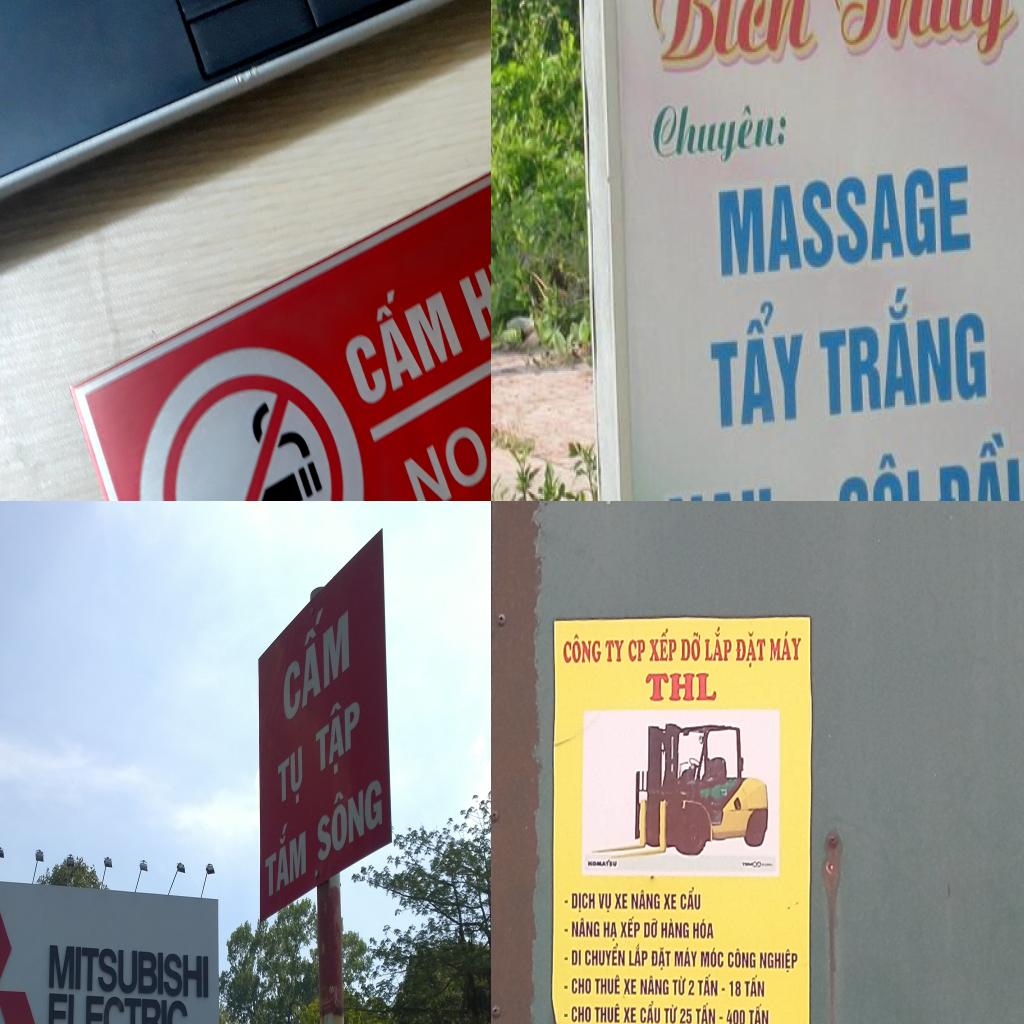text: (714, 160, 977, 280), (813, 279, 991, 420), (332, 270, 463, 408), (706, 292, 809, 432), (828, 0, 1024, 72), (651, 0, 824, 65), (653, 94, 791, 172), (282, 578, 352, 728), (47, 942, 210, 1001), (402, 419, 491, 501), (826, 449, 931, 501), (313, 680, 362, 789), (47, 991, 188, 1024), (452, 227, 491, 342), (264, 807, 308, 902), (644, 670, 720, 706), (277, 741, 305, 816), (562, 631, 602, 668), (734, 627, 768, 670), (768, 628, 803, 664), (759, 945, 800, 974), (703, 624, 732, 664), (648, 627, 678, 664), (584, 942, 626, 968), (678, 629, 702, 662), (630, 888, 661, 912), (639, 974, 670, 997), (727, 947, 757, 970), (660, 918, 690, 940), (604, 635, 626, 664), (571, 917, 600, 939), (594, 973, 621, 996), (700, 945, 724, 970), (571, 890, 597, 913), (650, 945, 672, 972), (680, 886, 702, 912), (698, 972, 720, 998), (594, 1002, 620, 1024), (692, 917, 716, 940), (619, 915, 641, 939), (674, 946, 698, 968), (639, 1000, 661, 1024), (628, 943, 648, 969), (744, 975, 766, 998), (748, 1002, 770, 1024), (695, 1001, 716, 1024), (627, 637, 646, 662), (570, 975, 593, 995), (571, 1003, 592, 1024), (602, 919, 619, 942), (643, 916, 659, 940), (725, 1006, 746, 1024), (671, 974, 687, 997), (663, 1001, 678, 1024), (587, 858, 618, 869), (598, 891, 612, 914), (614, 890, 628, 912), (622, 1005, 637, 1024), (623, 977, 638, 995), (678, 1006, 693, 1024), (663, 892, 677, 911), (729, 978, 742, 998), (570, 948, 582, 968), (688, 978, 696, 996), (563, 955, 569, 962), (563, 984, 569, 991), (563, 898, 569, 904), (563, 926, 569, 932), (718, 1014, 724, 1020), (563, 1013, 569, 1018), (721, 987, 726, 992)
